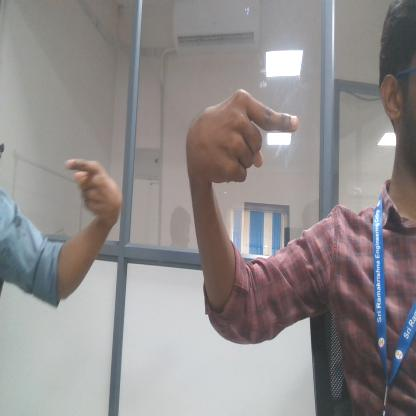Left: (182, 84, 300, 189)
